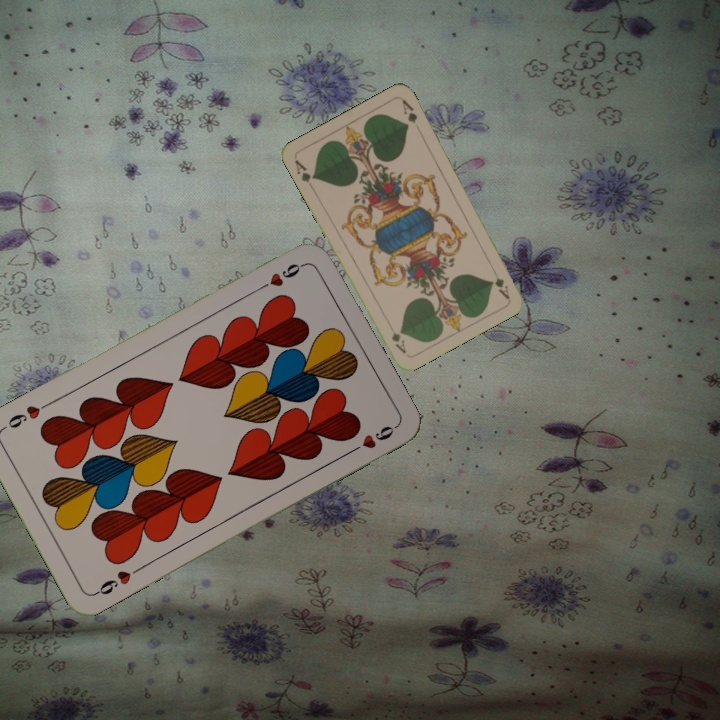GA: (487, 264, 512, 301), (291, 156, 319, 185)
H9: (90, 562, 144, 598), (253, 259, 308, 294)
